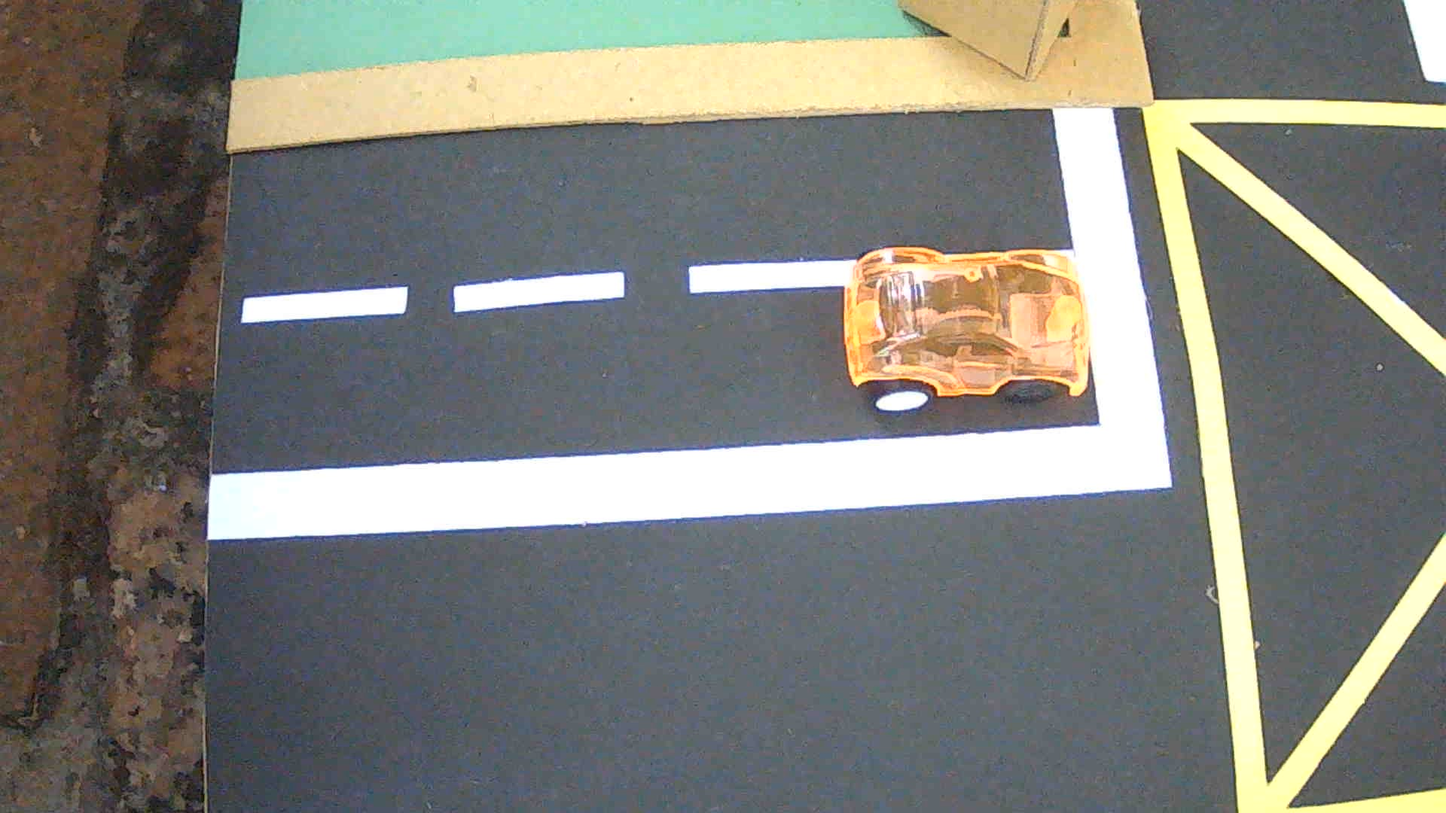Mobil orange: (843, 247, 1090, 412)
